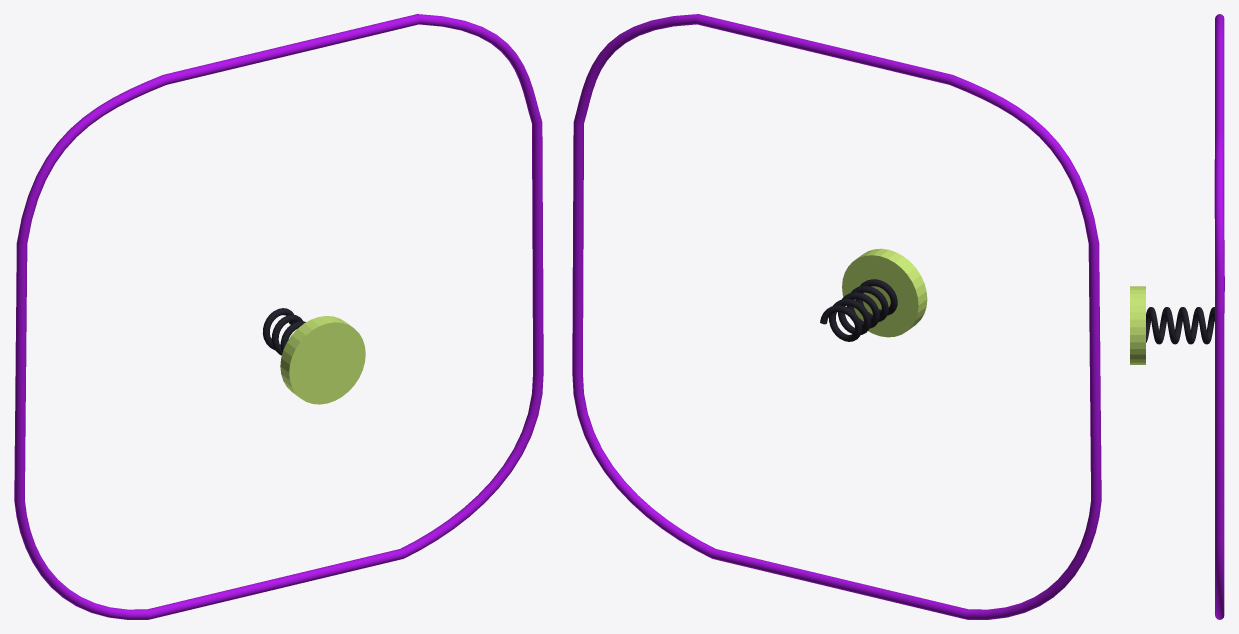
File: leber-lgk-109.glb
3 renders of one model, left to right at view 1: azimuth 30°, elevation 25°; view 2: azimuth 150°, elevation 25°; view 3: azimuth 270°, elevation 25°, orthographic. The views are drawn at different scales.
Visible parts, largest first — view 1: Line.006, Cylinder.027, Spiral; view 2: Line.006, Cylinder.027, Spiral; view 3: Line.006, Spiral, Cylinder.027.
Boxes of the visible parts, bbox=[...] form: Line.006: bbox=[14, 14, 543, 619]; Cylinder.027: bbox=[280, 316, 365, 404]; Spiral: bbox=[262, 308, 305, 355]; Line.006: bbox=[572, 14, 1101, 619]; Cylinder.027: bbox=[842, 248, 927, 337]; Spiral: bbox=[820, 279, 897, 341]; Line.006: bbox=[1214, 14, 1224, 619]; Spiral: bbox=[1146, 307, 1215, 344]; Cylinder.027: bbox=[1130, 286, 1145, 364].
Size of the model in its own units: 3.45 by 3.38 by 0.6014.
